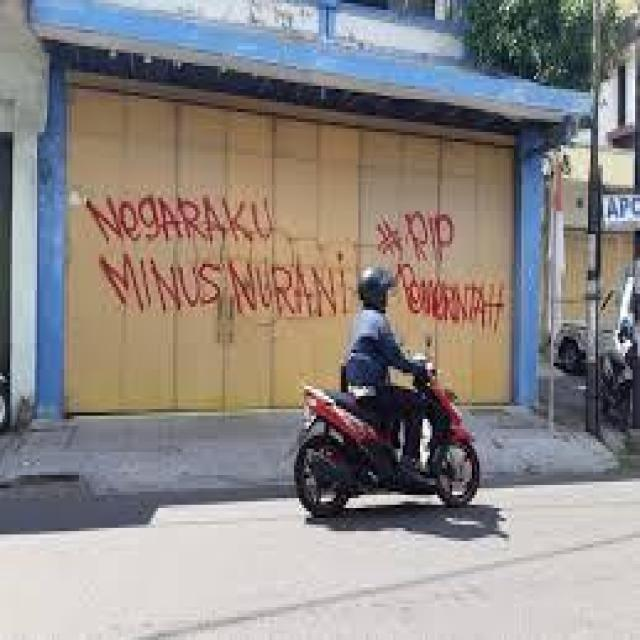nonspitting: (87, 195, 350, 322), (378, 204, 506, 330)
